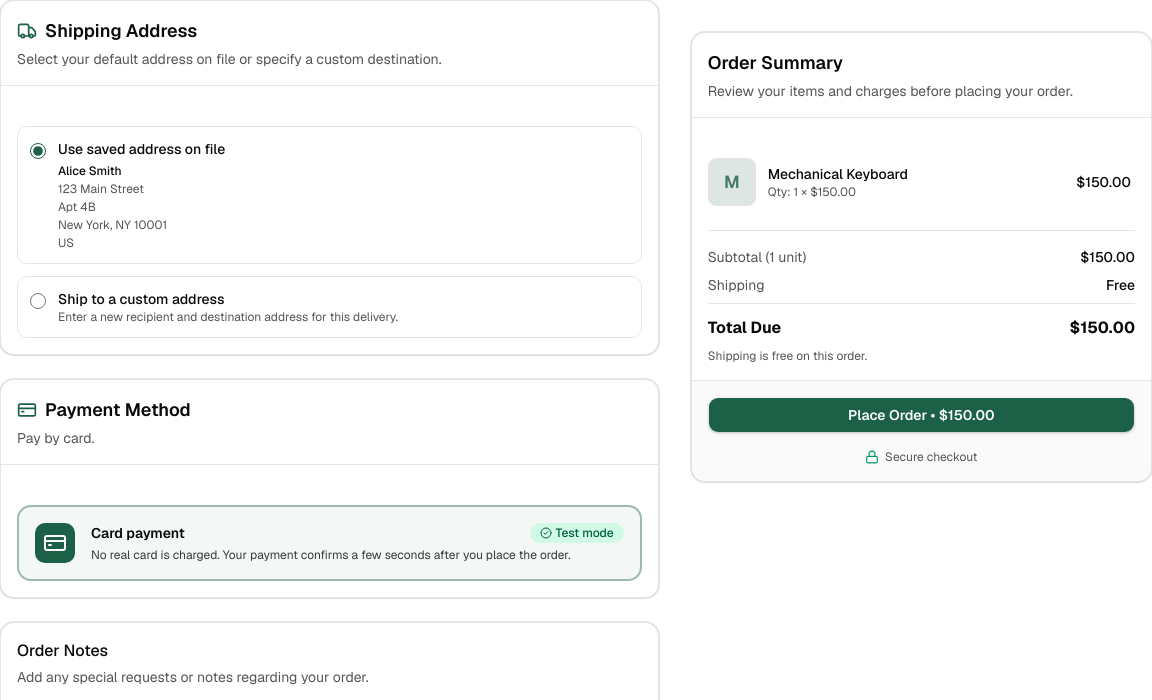
Test: CheckoutForm › shows validation errors and blocks submit when custom address is invalid
The image size is (1152, 700).
Click the radio button labelled "Ship to a custom address".
click(38, 301)  # box [30, 293, 46, 309]
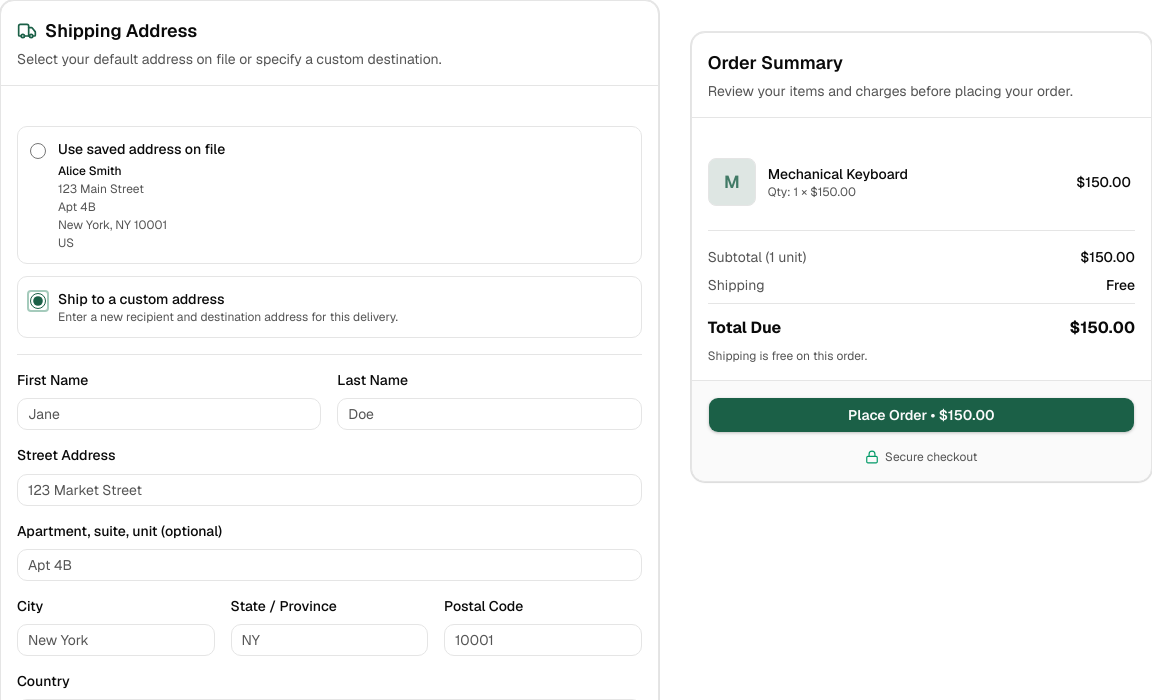
Click the button "Place Order • $150.00".
click(921, 415)  # box [708, 397, 1135, 433]
(page scrolled)
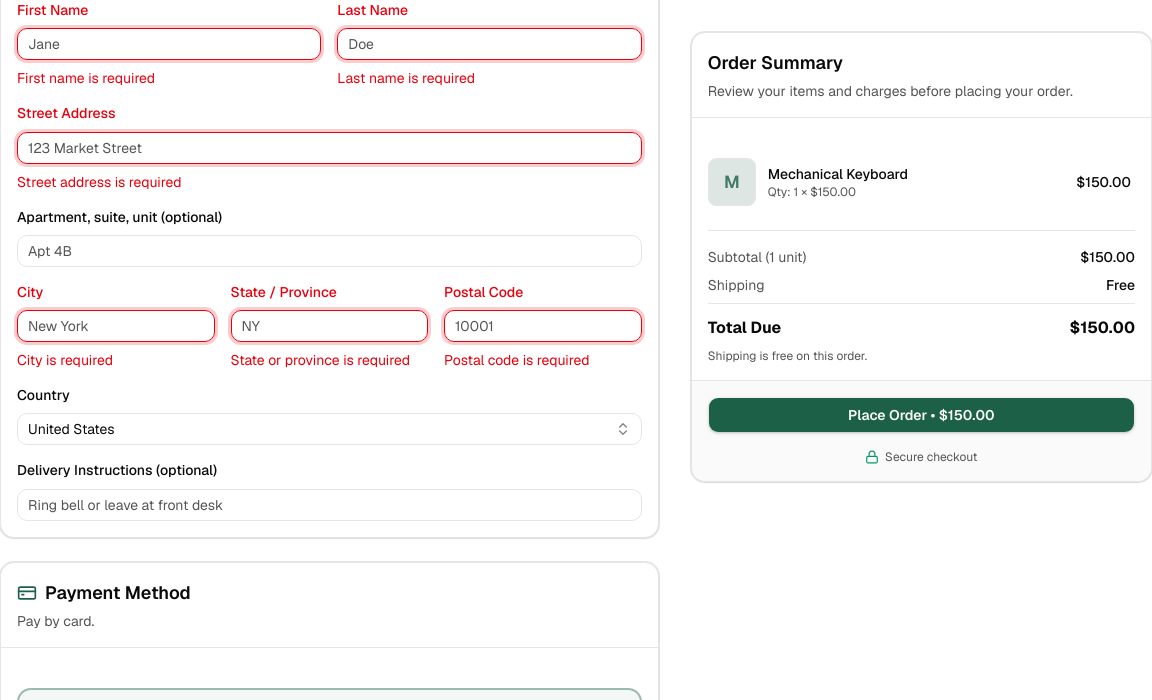
expect the text "First name is required" is shown: met, box [17, 69, 155, 87]
expect the text "Last name is required" is shown: met, box [337, 69, 475, 87]
expect the text "Street address is required" is shown: met, box [17, 172, 182, 190]
